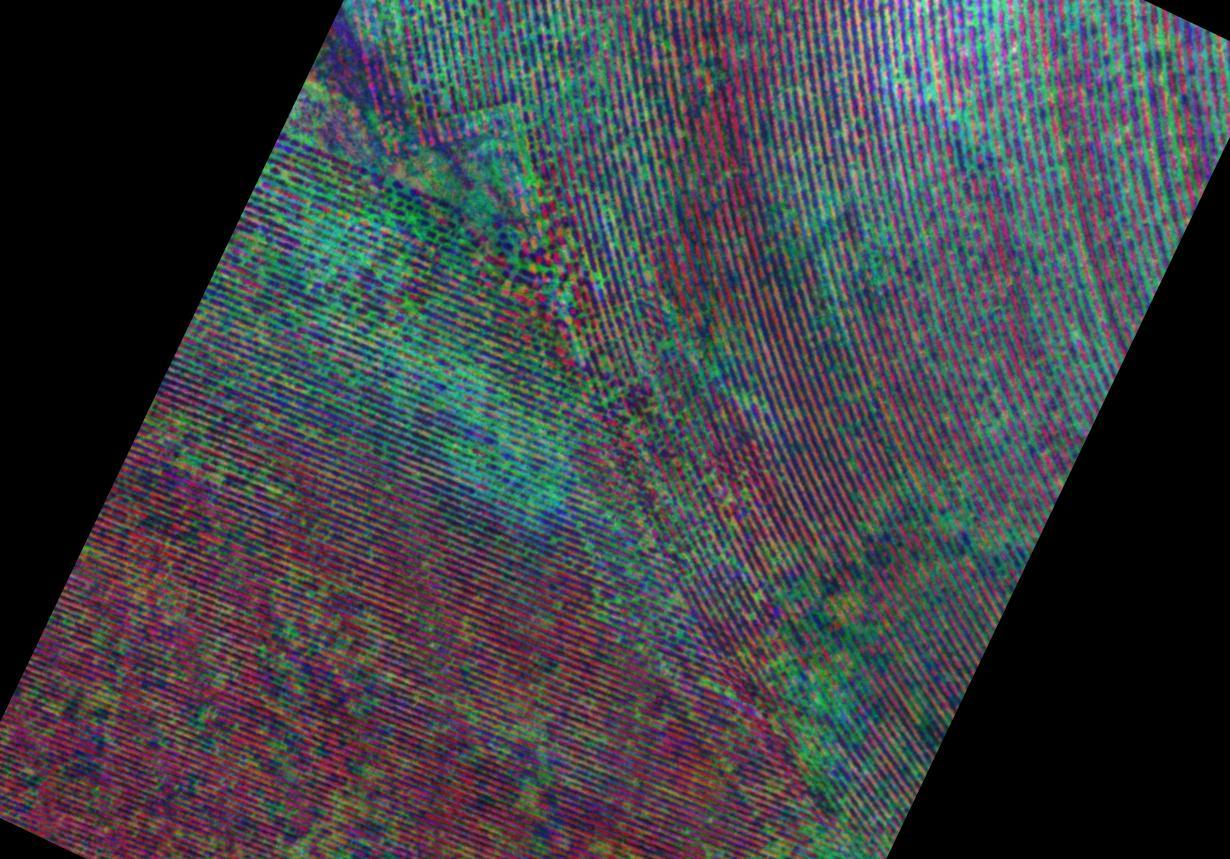dc: (450, 416, 572, 518), (302, 229, 404, 340), (770, 176, 866, 276), (777, 664, 858, 766), (455, 100, 544, 177), (781, 801, 861, 859)
